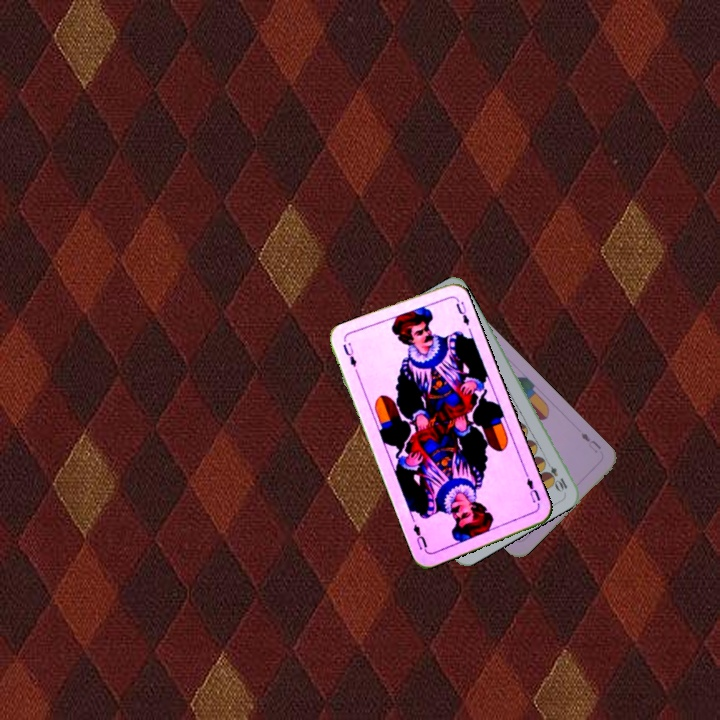E10: (541, 456, 570, 494)
EU: (521, 469, 543, 508), (577, 428, 604, 456), (339, 338, 359, 369)
